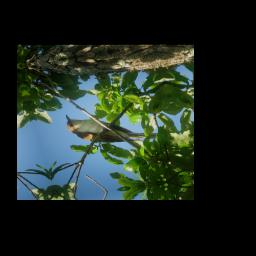Cuckoo: (62, 100, 163, 154)
